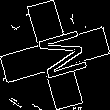M_W: (24, 26, 86, 84)
